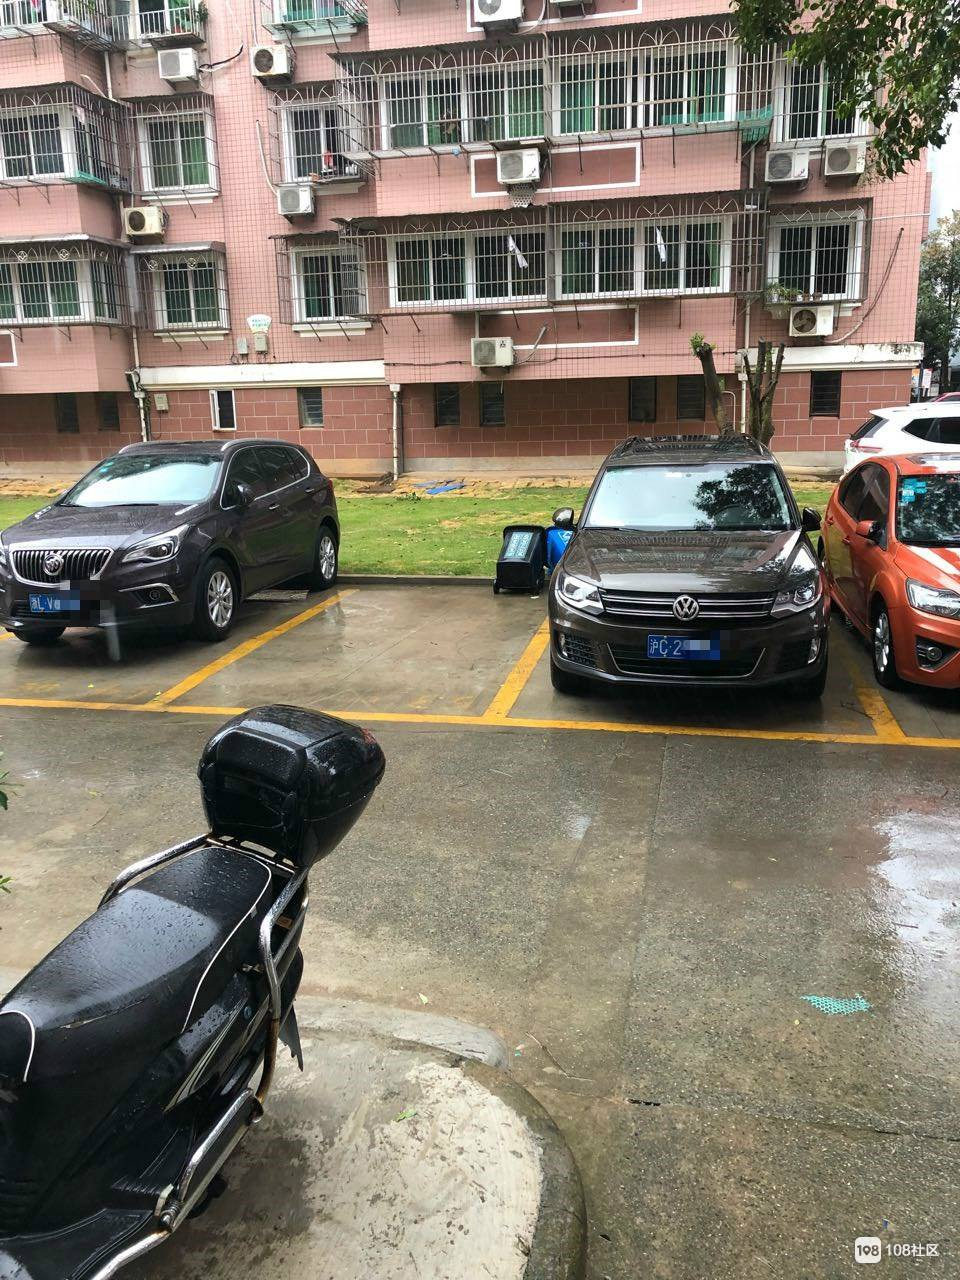slot_nocar: (144, 533, 576, 760)
